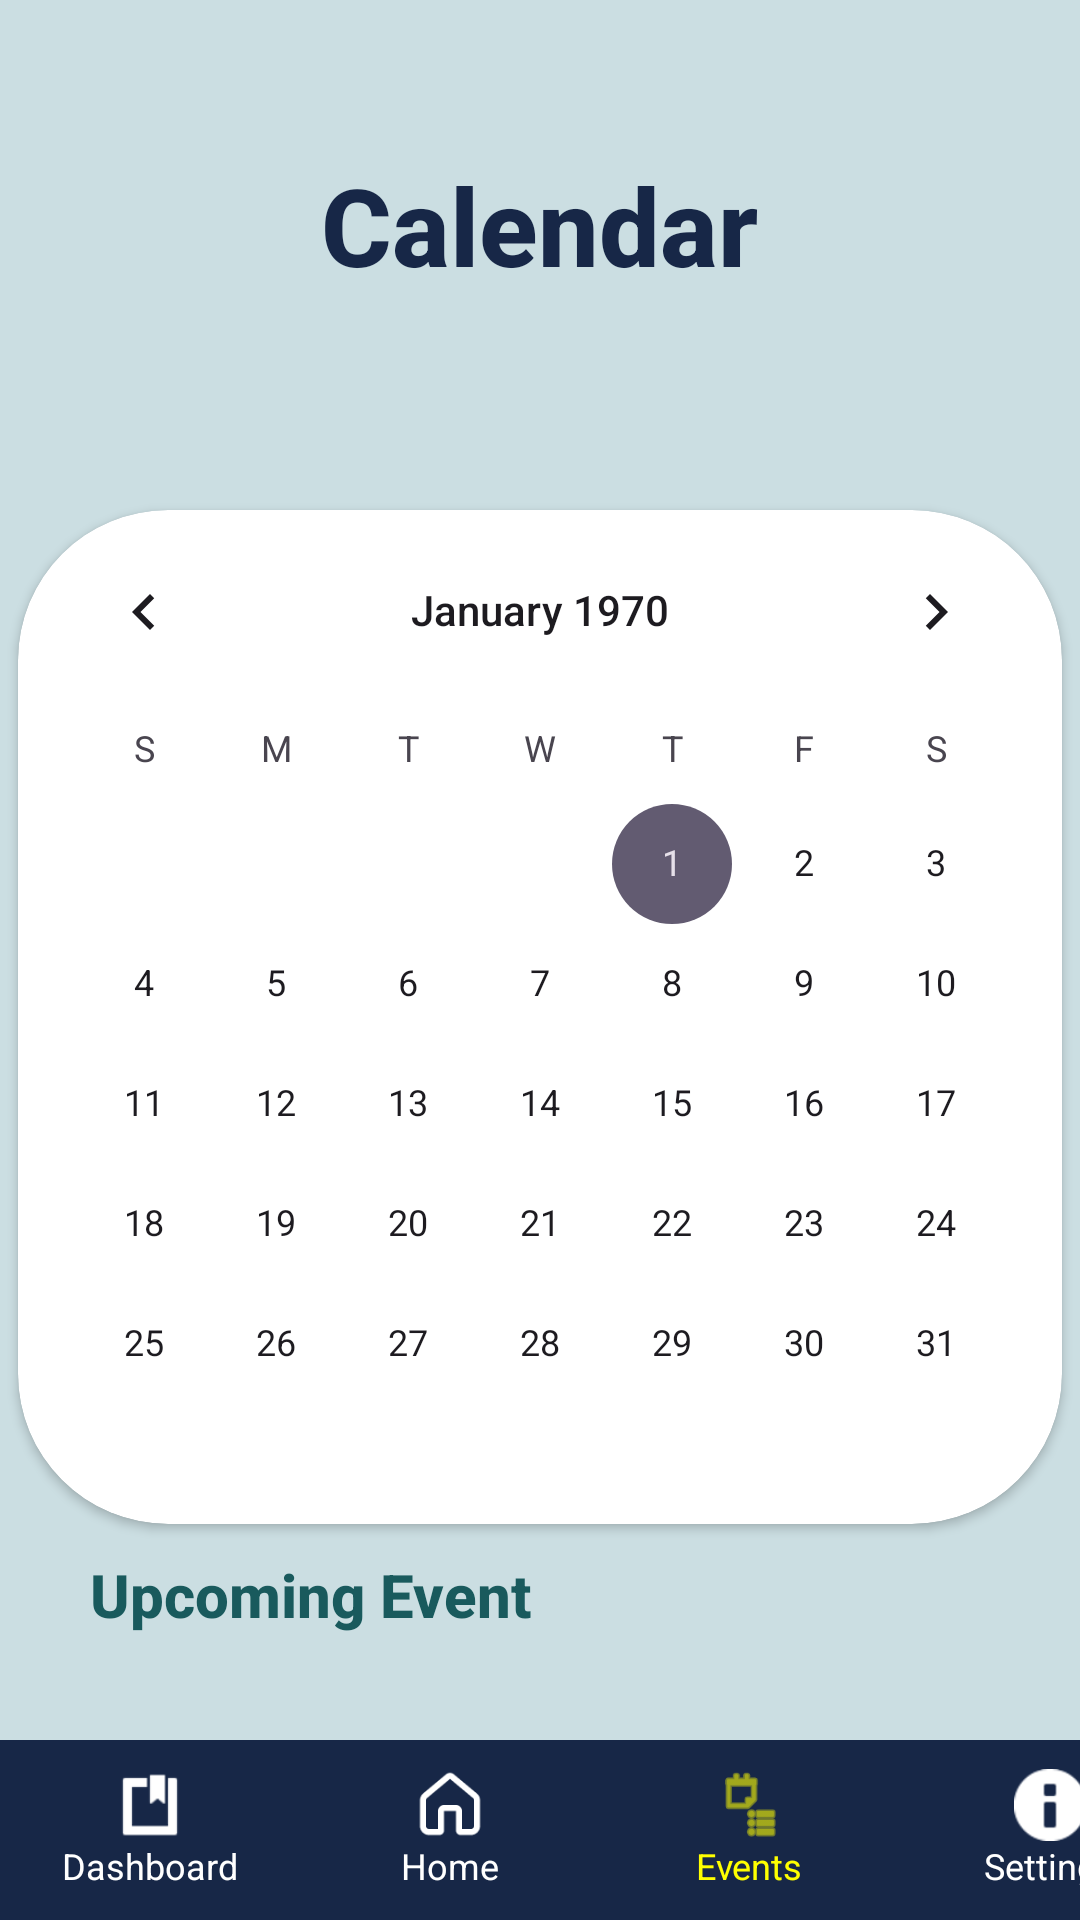

Named icons in this screenshot (1080w x 1920h) and their bounding boxes, detection(x1, y1, x2, y2):
agenda: detection(725, 1773, 776, 1837)
info: detection(1014, 1769, 1080, 1841)
